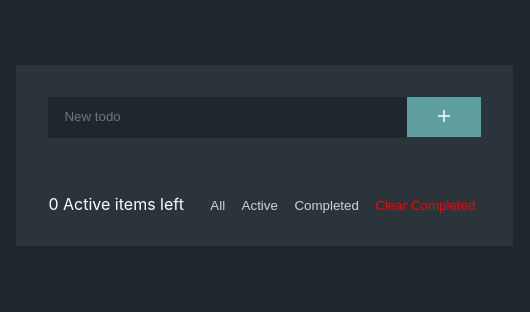
Test: create todo spec › successfully create a todo
# find an input by tagname
Type "Sprint meeting" into the field with placeholder "New todo" at (228, 118), box [49,97,407,138]
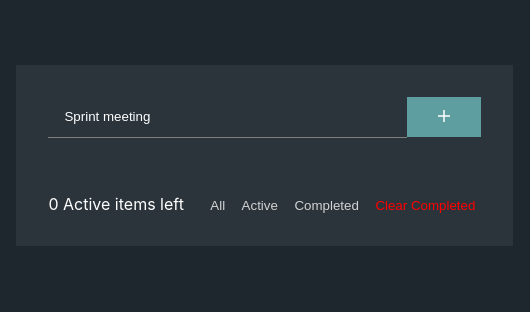
# submit form by title of submit button
Click the button titled "Add Todo" at (445, 117), box [407,97,482,137]
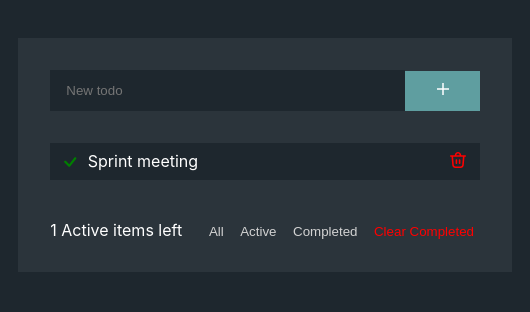
Type "Coding" into the field with placeholder "New todo" at (228, 91), box [50,70,405,111]
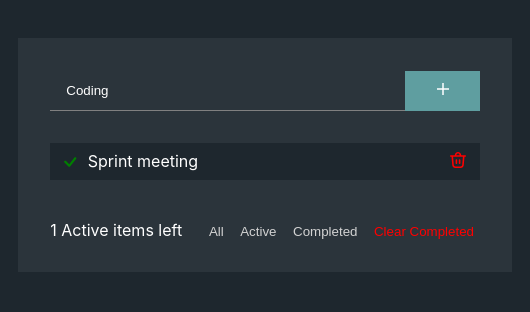
# submit form by classname of submit button
Click the button with class "submit-button" at (443, 91), box [405,71,480,111]
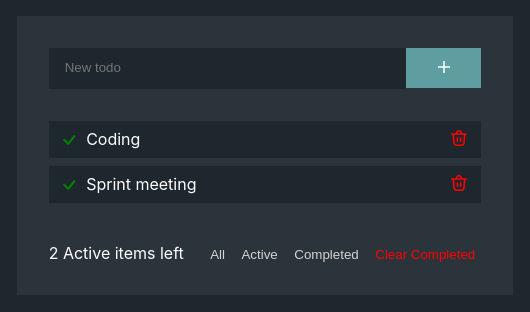
expect the text "Sprint meeting" is shown: met, box [57,174,201,194]
expect the text "Coding" is shown: met, box [57,128,145,150]
